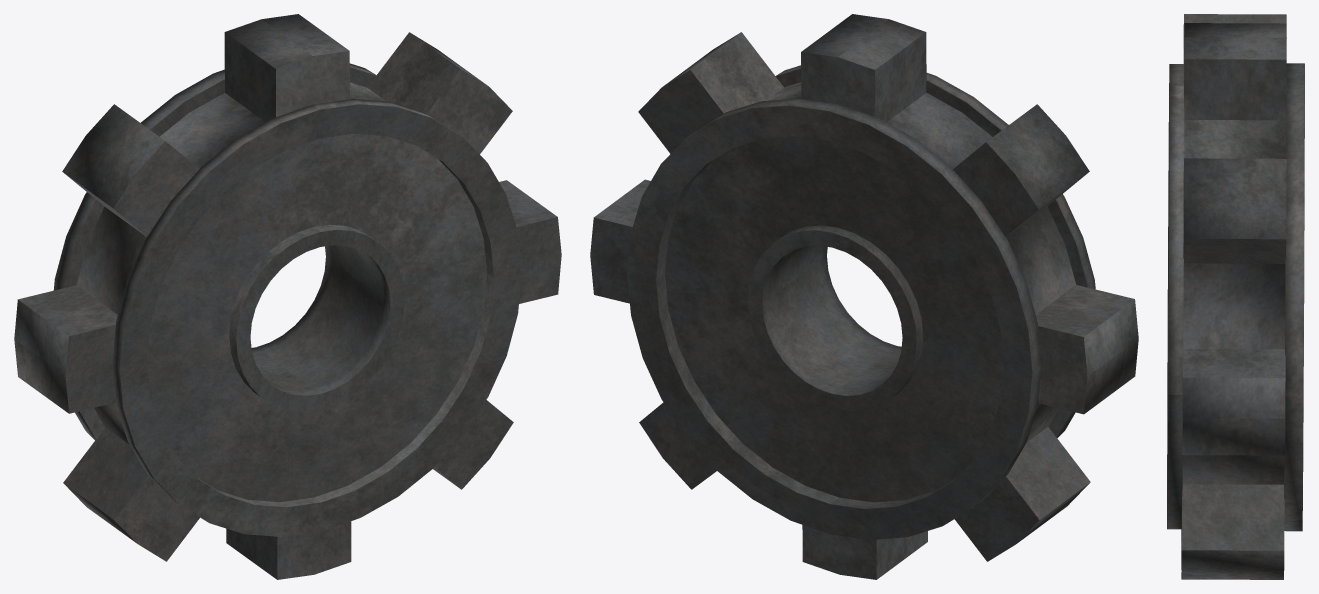
File: Engranage.fbx
The picture shows the model from 3 angles, left to right: view 1: azimuth 30°, elevation 25°; view 2: azimuth 150°, elevation 25°; view 3: azimuth 270°, elevation 25°; orthographic projection.
Parts seen in each view (by area): view 1: Plane; view 2: Plane; view 3: Plane.
Boxes of the visible parts, x1,y1,x2,y2 form: Plane: [14, 14, 561, 579]; Plane: [590, 14, 1138, 579]; Plane: [1167, 14, 1304, 579].
Size of the model in its own units: 262 by 261 by 62.86.
